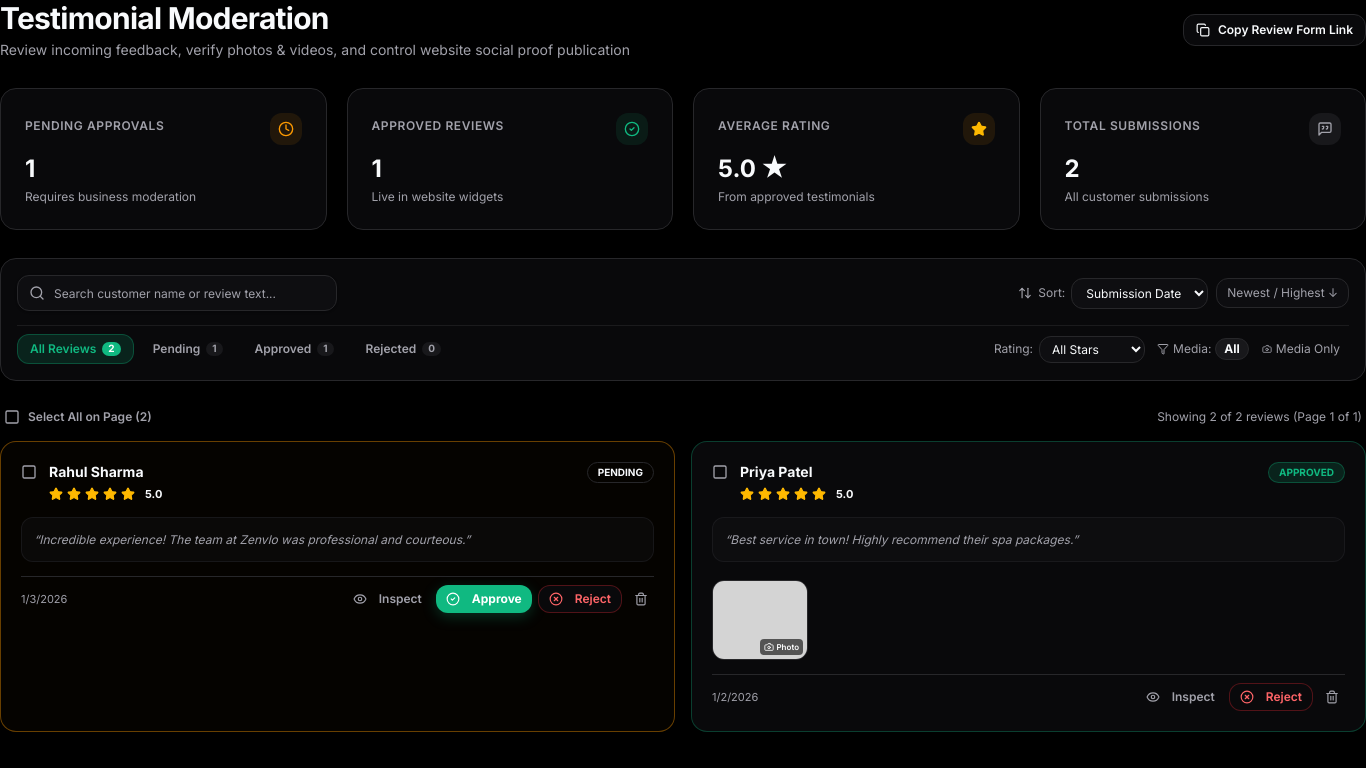
Test: TestimonialsPage Moderation Integration Tests › opens detailed inspection modal when clicking Inspect
The image size is (1366, 768).
Expected: the heading "Rahul Sharma" is shown, [49,463,144,480]
What coordinates should you click on to do the following:
click the button "Inspect" in the row of "1/3/2026"
I would click on:
 (387, 599)
Its box is [345,585,430,613].
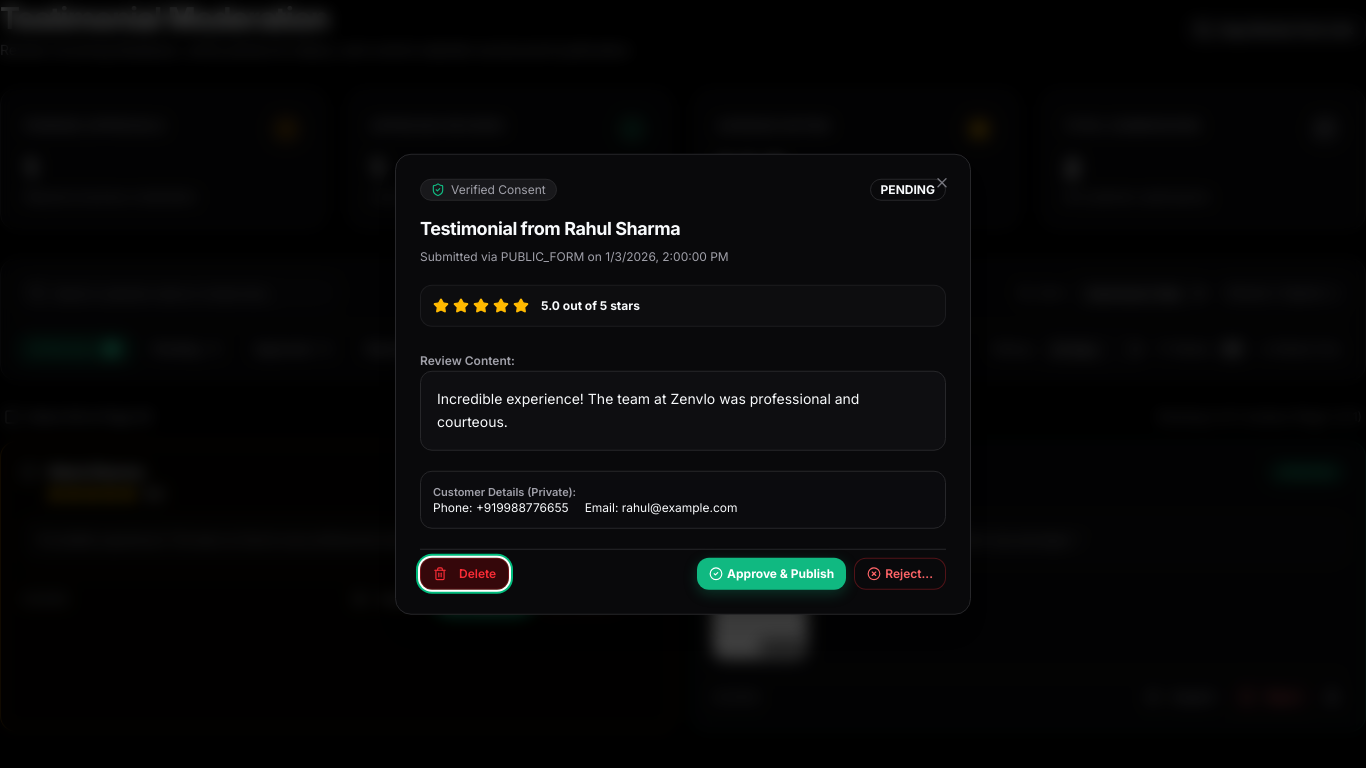
Now the heading "Testimonial from Rahul Sharma" is shown, box [420,218,680,239]
Now the text "Verified Consent" is shown, box [420,179,557,201]
Now the text "5.0 out of 5 stars" is shown, box [541,298,640,314]
